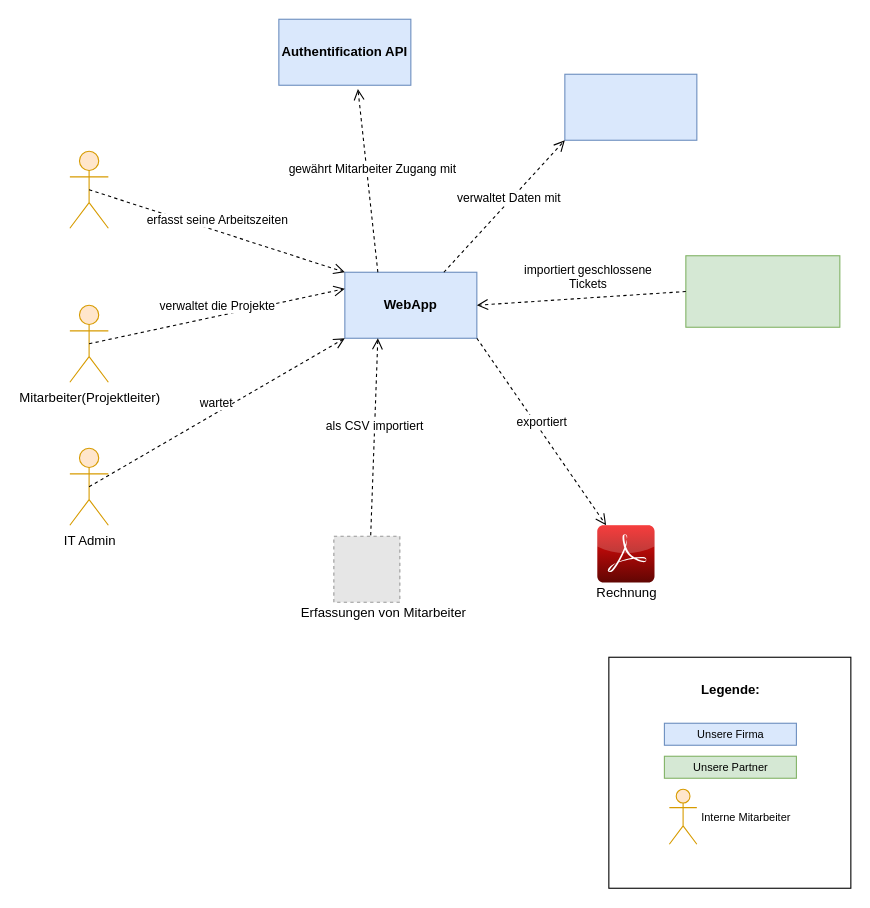
Some shapes in this 870 by 908 pixel diagram are drawn without their labels. Grey dashed boxes stand in for pictures. Each missing label, with the centre of its shape:
"Datenverwaltungs -API" goes at point 630,106.
"Mitarbeiter" goes at point 88,189.
"Ticketsystem" goes at point 762,291.
